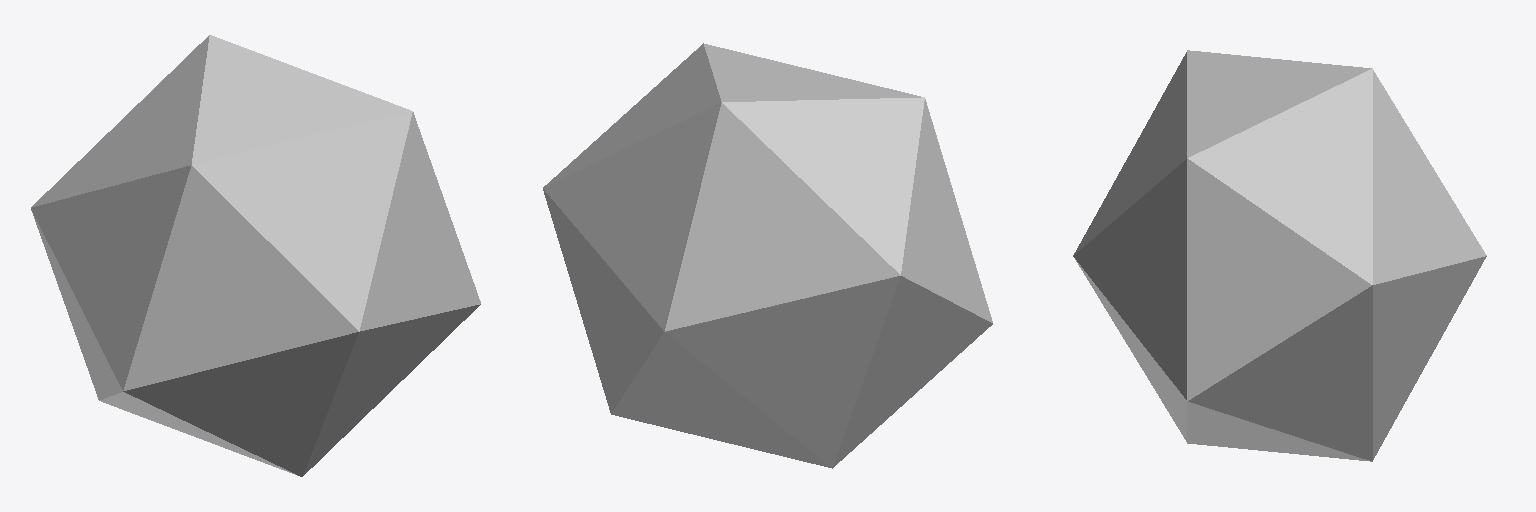
Rendered from star6.obj.
3 renders of one model, left to right at view 1: azimuth 30°, elevation 25°; view 2: azimuth 150°, elevation 25°; view 3: azimuth 270°, elevation 25°, orthographic.
Parts seen in each view (by area): view 1: obj_0; view 2: obj_0; view 3: obj_0.
Part boxes in pixels (x1,y1,x2,y2): obj_0: (31, 35, 480, 476); obj_0: (543, 43, 992, 468); obj_0: (1073, 50, 1486, 461).
Bounding box in the file's own units: 5 × 5 × 5.